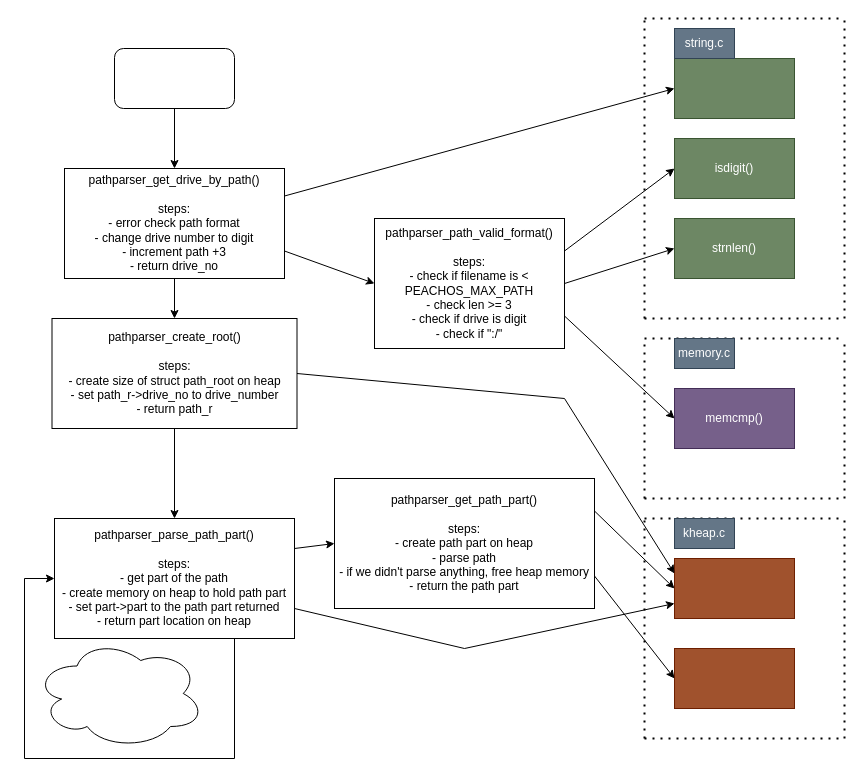
Image size: 864x784. Some labels were removed from this diagram. The shapes that lost their labels are listed below. From the top down, each one's box as (x1, y1, x2, y2) in pixels, then its label:
(114, 48, 234, 108): pathparser_parse()
(674, 58, 794, 118): tonumericdigit()
(674, 558, 794, 618): kzalloc()
(34, 638, 204, 748): Continue to call this function until entire path is parsed
(674, 648, 794, 708): kfree()
